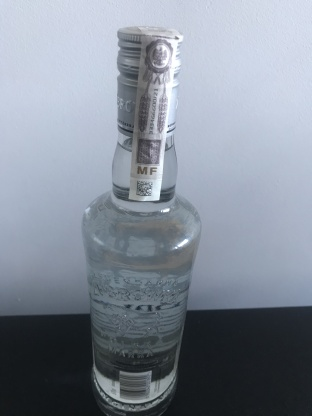nakretka: (113, 20, 186, 141)
